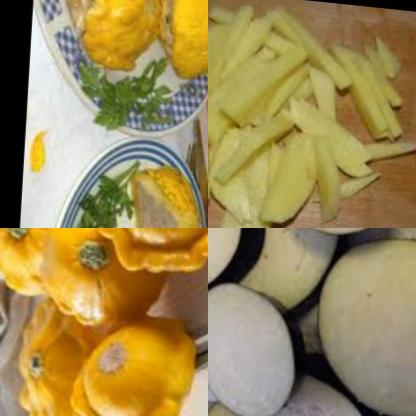eggplant: (315, 228, 416, 416), (208, 279, 311, 416), (226, 228, 355, 321), (251, 354, 405, 416), (208, 228, 271, 313), (208, 395, 287, 416)
potato: (208, 0, 406, 228)
squash-patisson: (67, 298, 208, 416), (40, 228, 176, 331), (6, 278, 104, 416), (65, 0, 170, 84), (0, 228, 92, 295), (130, 150, 208, 228), (89, 228, 208, 272), (160, 0, 208, 82)
